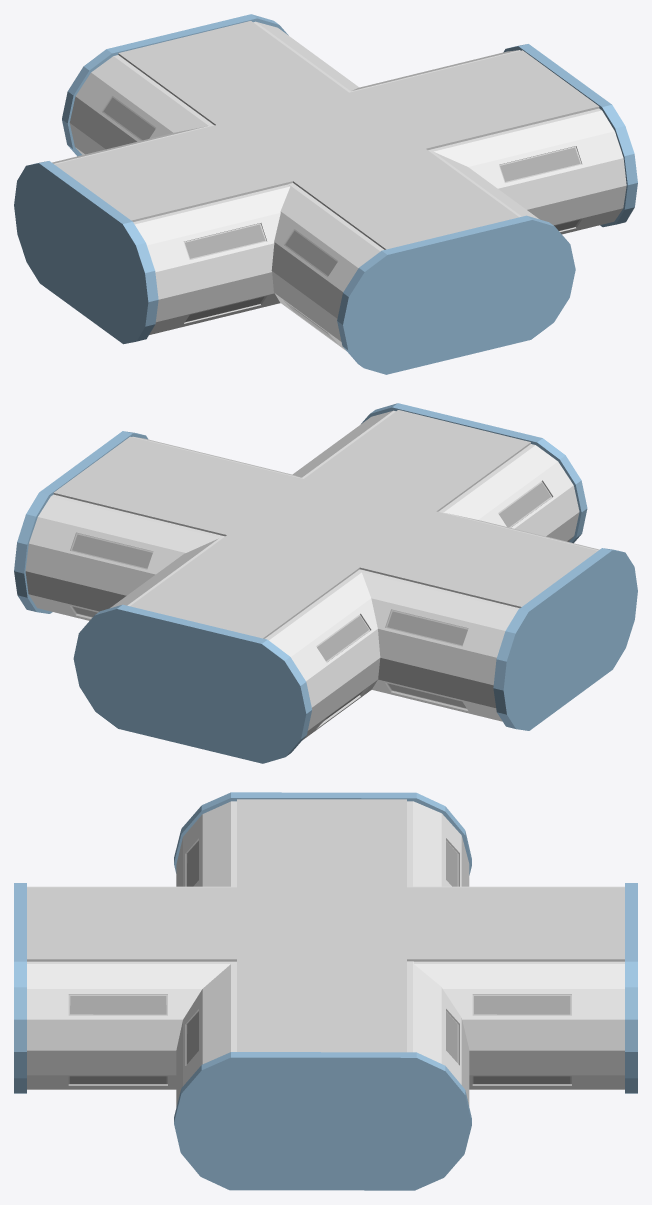
3 views of the same model, one above another, from view 1: azimuth 30°, elevation 25°; view 2: azimuth 150°, elevation 25°; view 3: azimuth 270°, elevation 25° (orthographic). The views are drawn at different scales.
Visible parts, largest first — view 1: Cylinder_1; view 2: Cylinder_1; view 3: Cylinder_1.
Boxes of the visible parts, box(x1,y1,x2,y2) form: Cylinder_1: box(14, 14, 637, 374); Cylinder_1: box(14, 403, 637, 763); Cylinder_1: box(14, 792, 637, 1190).
Bounding box in the file's own units: 1264 × 296 × 1257.
